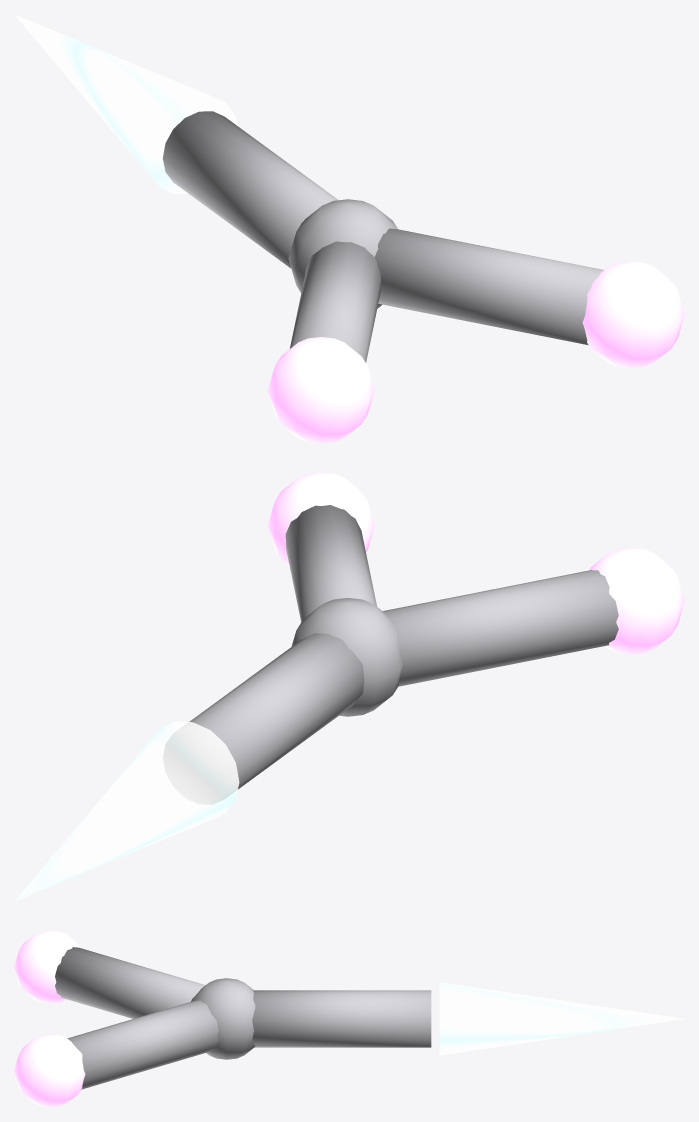
The model's file is G10_Antibody_Missile.glb.
3 renders of one model, top to bottom at view 1: azimuth 30°, elevation 25°; view 2: azimuth 150°, elevation 25°; view 3: azimuth 270°, elevation 25°, orthographic. The views are drawn at different scales.
Visible parts, largest first — view 1: G10_Antibody_Missile_Mesh; view 2: G10_Antibody_Missile_Mesh; view 3: G10_Antibody_Missile_Mesh.
Part boxes in pixels (bbox=[...]): G10_Antibody_Missile_Mesh: bbox=[14, 14, 684, 443]; G10_Antibody_Missile_Mesh: bbox=[14, 472, 684, 901]; G10_Antibody_Missile_Mesh: bbox=[14, 930, 683, 1107].
Size of the model in its own units: 0.78 by 0.2 by 1.64.
